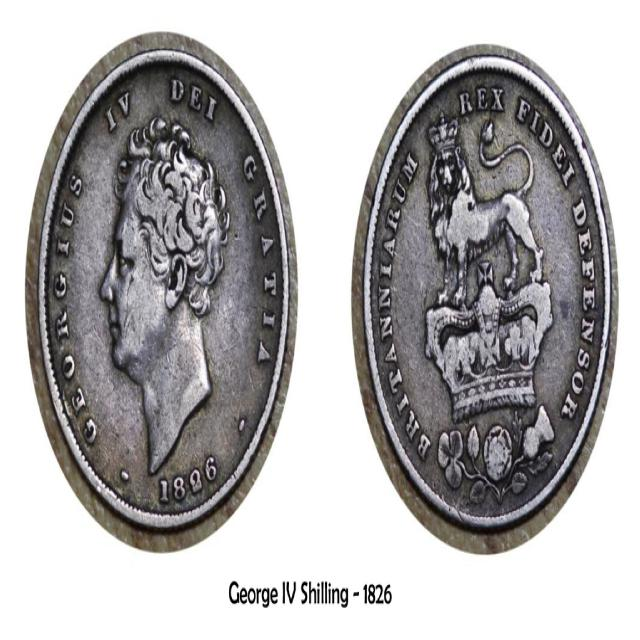Coin: (357, 41, 620, 555), (42, 49, 291, 534)
